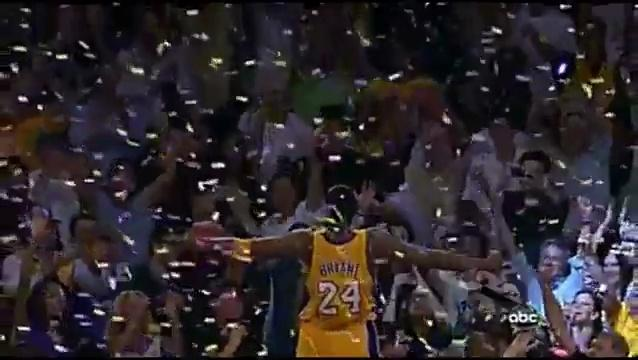Ball: (185, 214, 225, 255)
Person: (172, 178, 519, 360)
